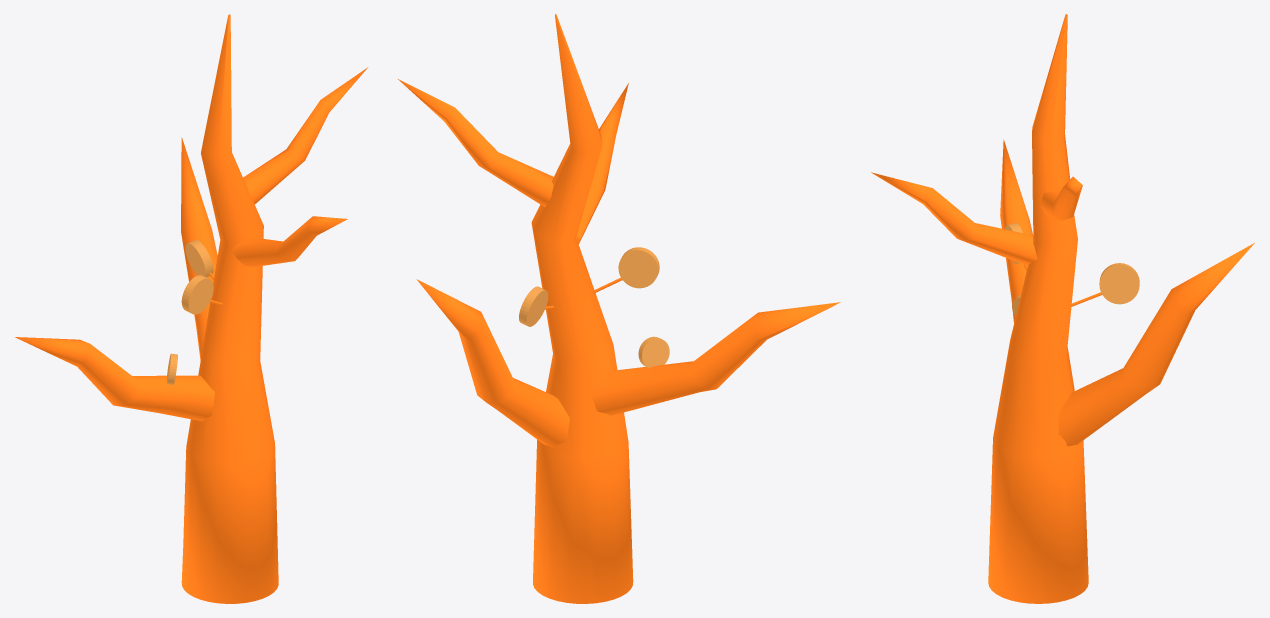
File: treesample.fbx
The picture shows the model from 3 angles, left to right: view 1: azimuth 30°, elevation 25°; view 2: azimuth 150°, elevation 25°; view 3: azimuth 270°, elevation 25°; orthographic projection. The views are drawn at different scales.
Parts seen in each view (by area): view 1: Cylinder.814; view 2: Cylinder.814; view 3: Cylinder.814.
Part boxes in pixels (left/top/right/bottom): Cylinder.814: left=15, top=14, right=368, bottom=603; Cylinder.814: left=398, top=14, right=840, bottom=603; Cylinder.814: left=871, top=14, right=1254, bottom=603.
Size of the model in its own units: 0.3671 by 0.4977 by 0.302.
